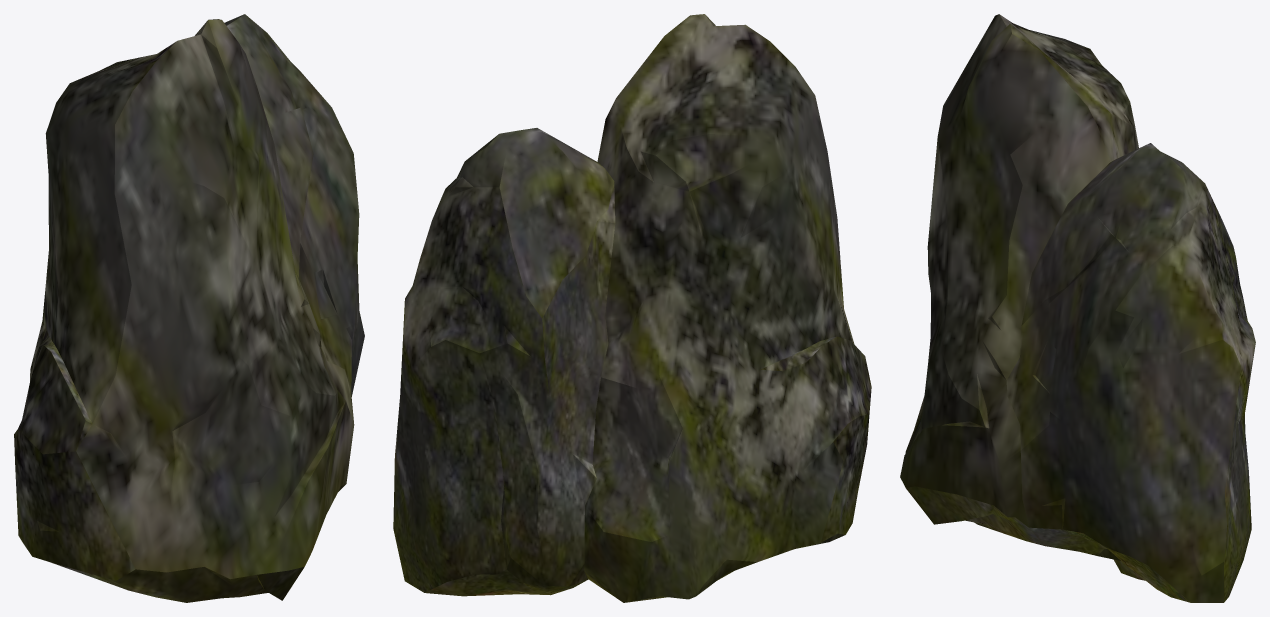
Rendered from shore-cliff-b.lod0.glb.
The picture shows the model from 3 angles, left to right: view 1: azimuth 30°, elevation 25°; view 2: azimuth 150°, elevation 25°; view 3: azimuth 270°, elevation 25°; orthographic projection. The views are drawn at different scales.
Parts seen in each view (by area): view 1: cliff_03_lp.003_cliff_03_0; view 2: cliff_03_lp.003_cliff_03_0; view 3: cliff_03_lp.003_cliff_03_0.
Part boxes in pixels (bbox=[...]): cliff_03_lp.003_cliff_03_0: bbox=[14, 14, 364, 602]; cliff_03_lp.003_cliff_03_0: bbox=[393, 14, 871, 602]; cliff_03_lp.003_cliff_03_0: bbox=[900, 14, 1255, 602].
Bounding box in the file's own units: 9.48 × 13.41 × 8.46.
Materials: 1 (1 with a texture image).
